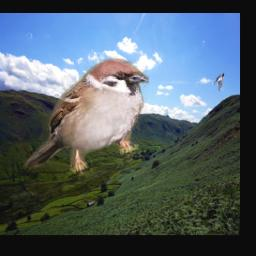Sparrow: (22, 56, 150, 176)
Swallow: (209, 74, 224, 92)
